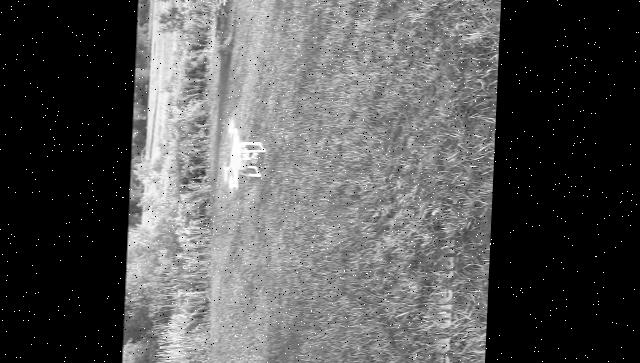drone: (221, 124, 267, 189)
